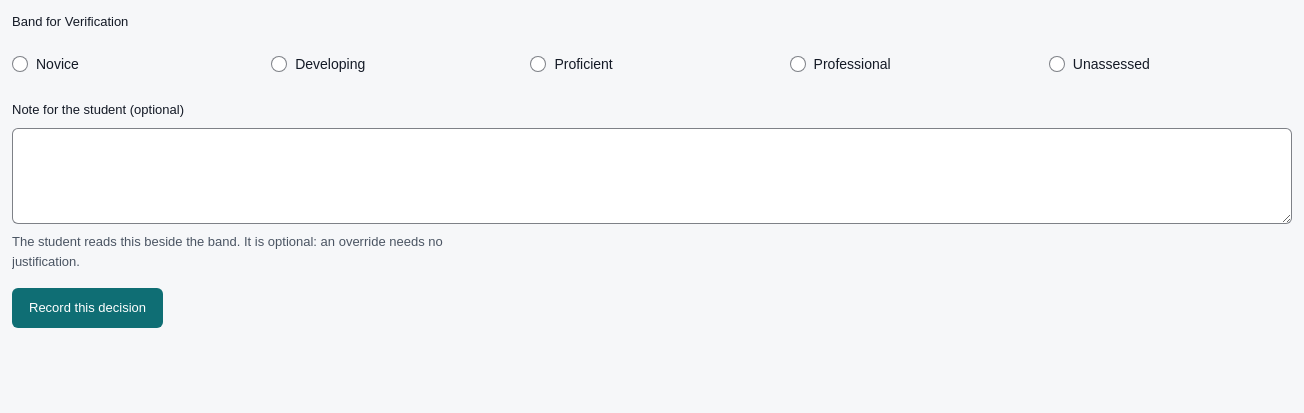
Test case: an override requires a band › refuses to save with no band chosen, and says so instead of sending
The image size is (1304, 413).
Click the button "Record this decision": x=88, y=308 [12,288,163,328]
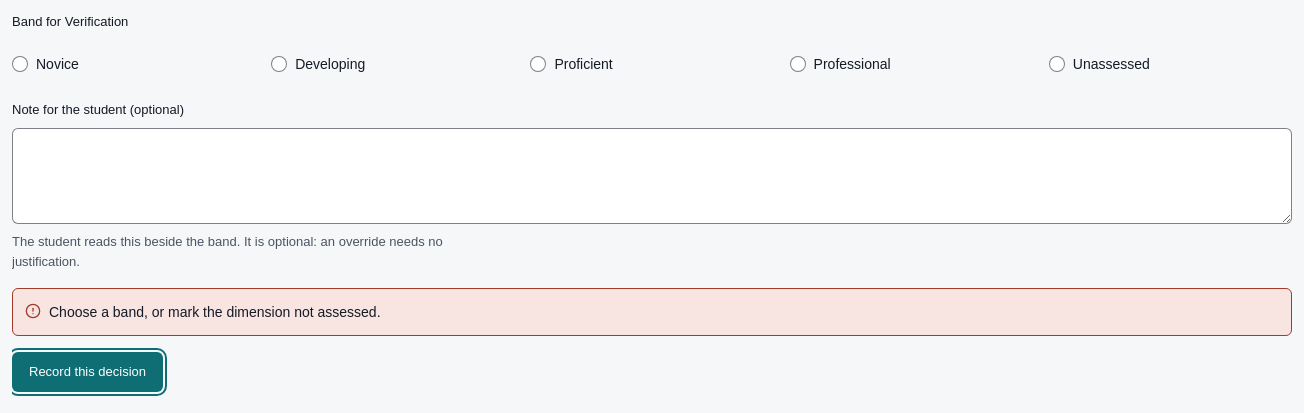
Result: the text "Choose a band, or mark the dimension not assessed." is shown at [49,301,380,323]
